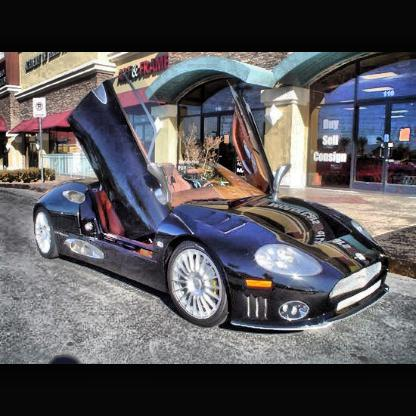Spyker C8 Convertible 2009: (31, 66, 396, 339)
